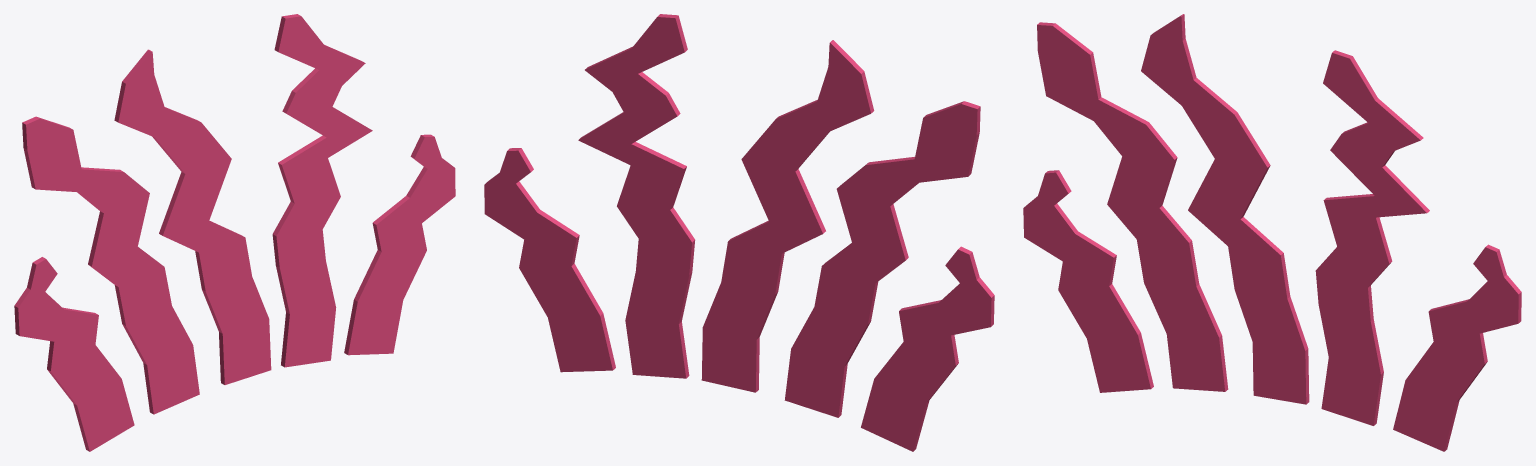
3 renders of one model, left to right at view 1: azimuth 30°, elevation 25°; view 2: azimuth 150°, elevation 25°; view 3: azimuth 330°, elevation 25°, orthographic. The views are drawn at different scales.
Visible parts, largest first — view 1: Plane.003; view 2: Plane.003; view 3: Plane.003.
Boxes of the visible parts, x1=… form: Plane.003: x1=14, y1=14, x2=455, y2=451; Plane.003: x1=484, y1=14, x2=994, y2=451; Plane.003: x1=1023, y1=14, x2=1521, y2=451.
Bounding box in the file's own units: 1.07 × 0.838 × 0.1046.
